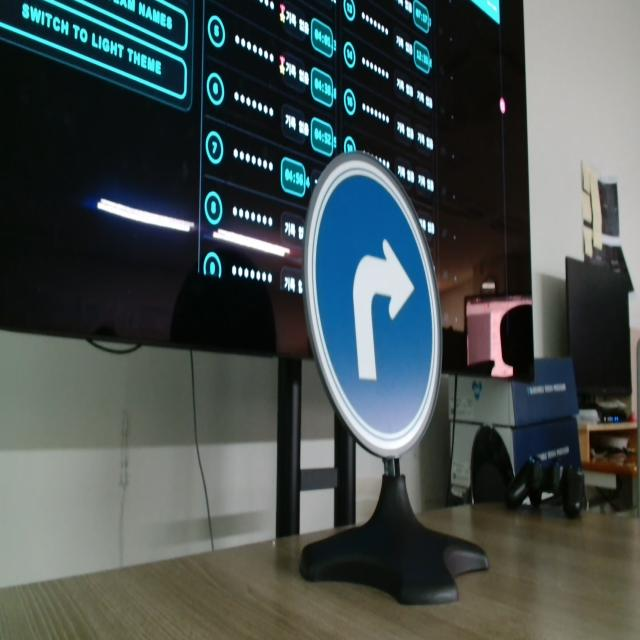right_dierection: (295, 149, 445, 446)
